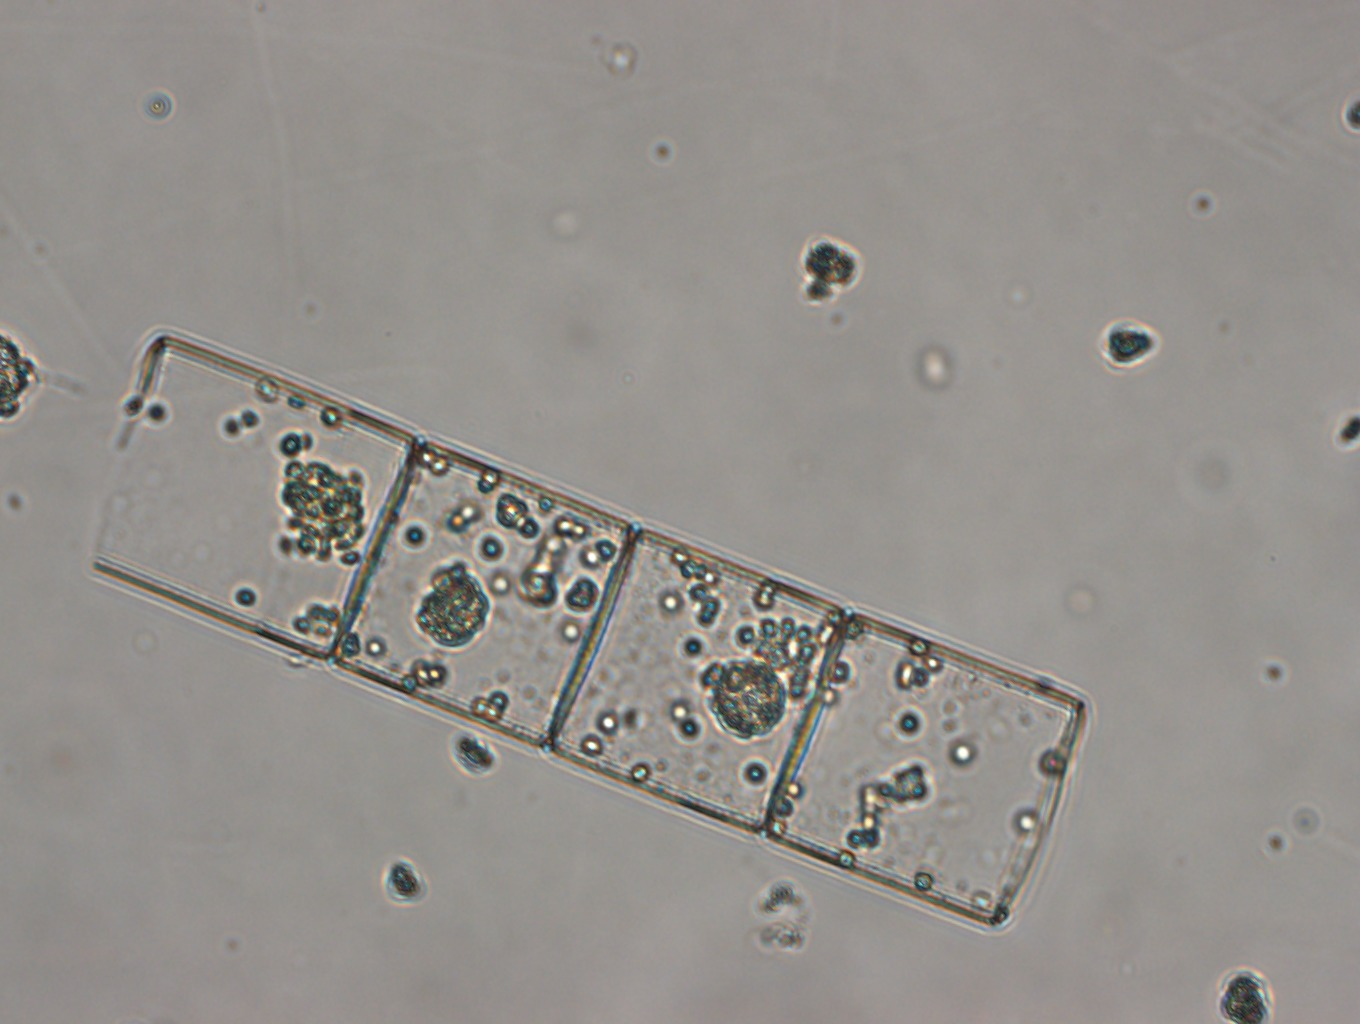guinardia flaccida: (67, 321, 1090, 937)
